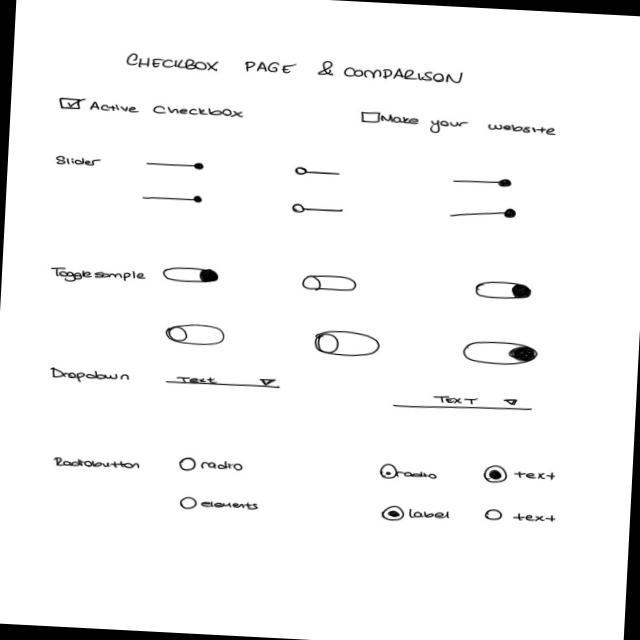checkbox: (359, 110, 561, 143), (58, 97, 247, 122)
label: (125, 53, 466, 88), (51, 266, 150, 288), (50, 367, 134, 388), (53, 456, 142, 473), (54, 155, 105, 170)
radio: (482, 465, 560, 488), (379, 503, 453, 526), (177, 497, 262, 517), (177, 456, 247, 477), (483, 508, 559, 526), (378, 464, 441, 485)
select: (393, 392, 536, 417), (164, 373, 285, 392)
slider: (447, 206, 520, 224), (140, 192, 206, 207), (452, 176, 516, 190), (146, 159, 207, 173), (292, 204, 348, 218), (294, 167, 342, 180)
toggle: (460, 340, 541, 370), (312, 329, 384, 361), (164, 322, 228, 349), (473, 279, 536, 303), (163, 265, 222, 286), (302, 274, 359, 294)
